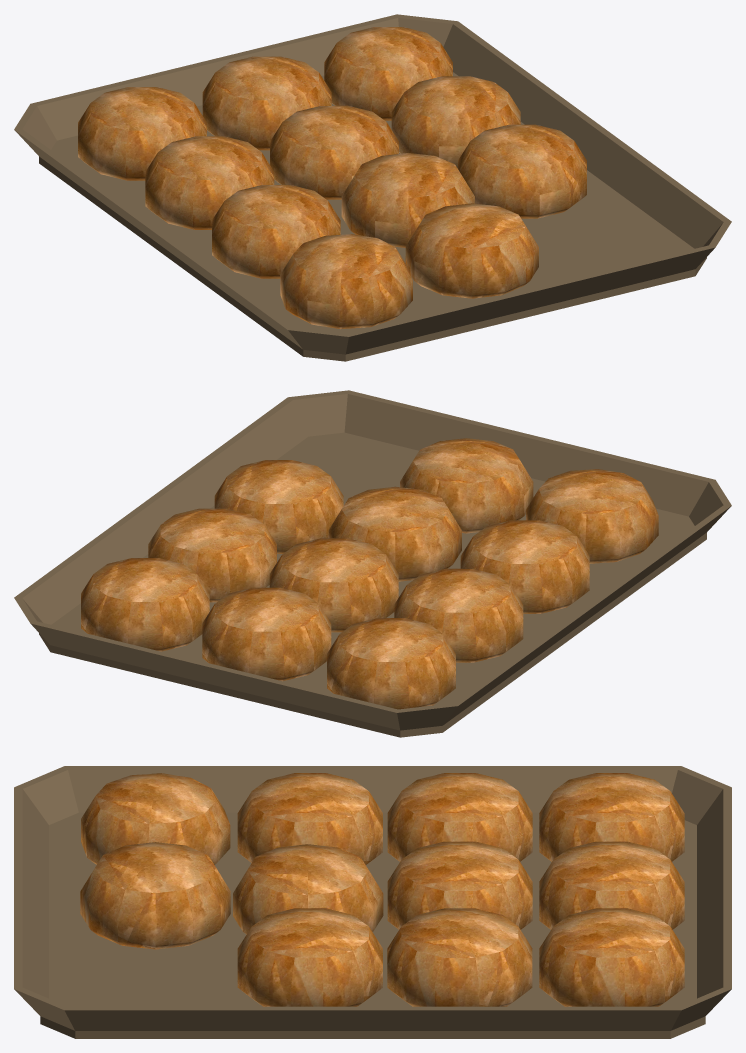
The model's file is rolls.glb.
3 renders of one model, top to bottom at view 1: azimuth 30°, elevation 25°; view 2: azimuth 150°, elevation 25°; view 3: azimuth 270°, elevation 25°, orthographic. The views are drawn at different scales.
Visible parts, largest first — view 1: rolls; view 2: rolls; view 3: rolls.
Boxes of the visible parts, <box> form: rolls: <box>14,14,731,361</box>; rolls: <box>14,390,731,737</box>; rolls: <box>14,766,731,1038</box>.
Bounding box in the file's own units: 0.4191 × 0.0568 × 0.5207.
Materials: 8 (7 with a texture image).
